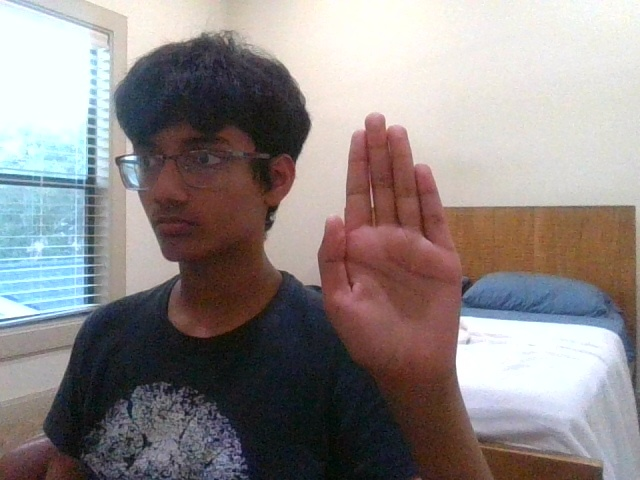hello: (317, 113, 462, 376)
